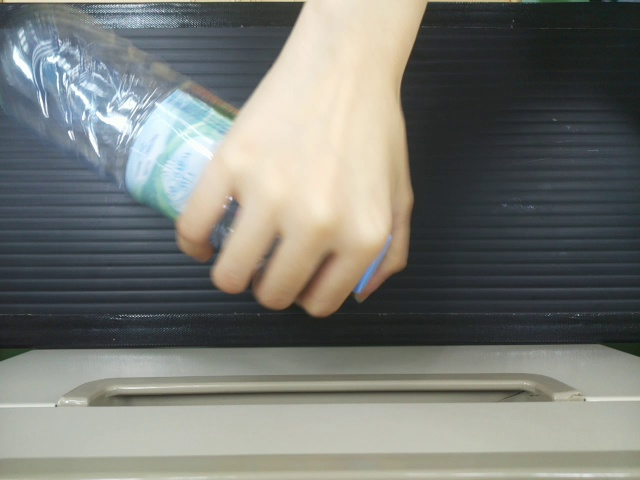bottle: (0, 2, 227, 246)
